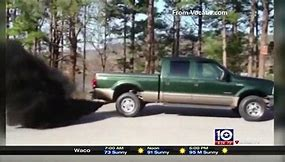smoke: (1, 37, 96, 129)
